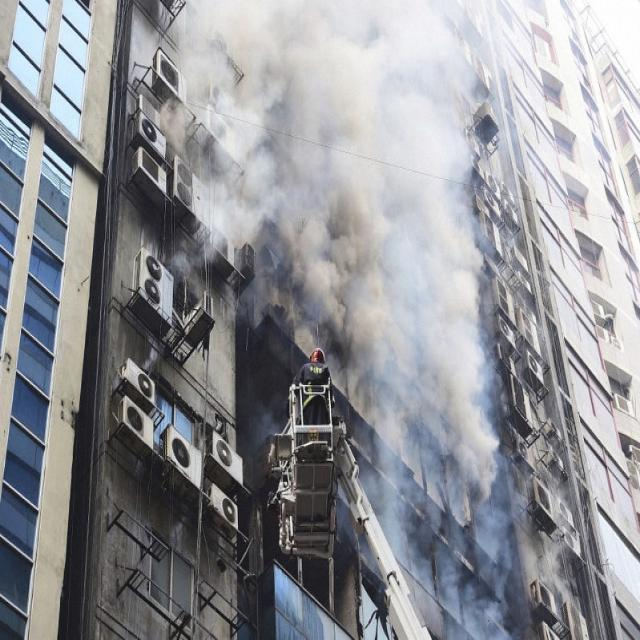smoke: (218, 9, 474, 394)
